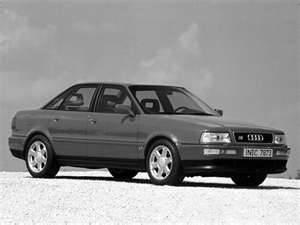car: (6, 80, 294, 187)
